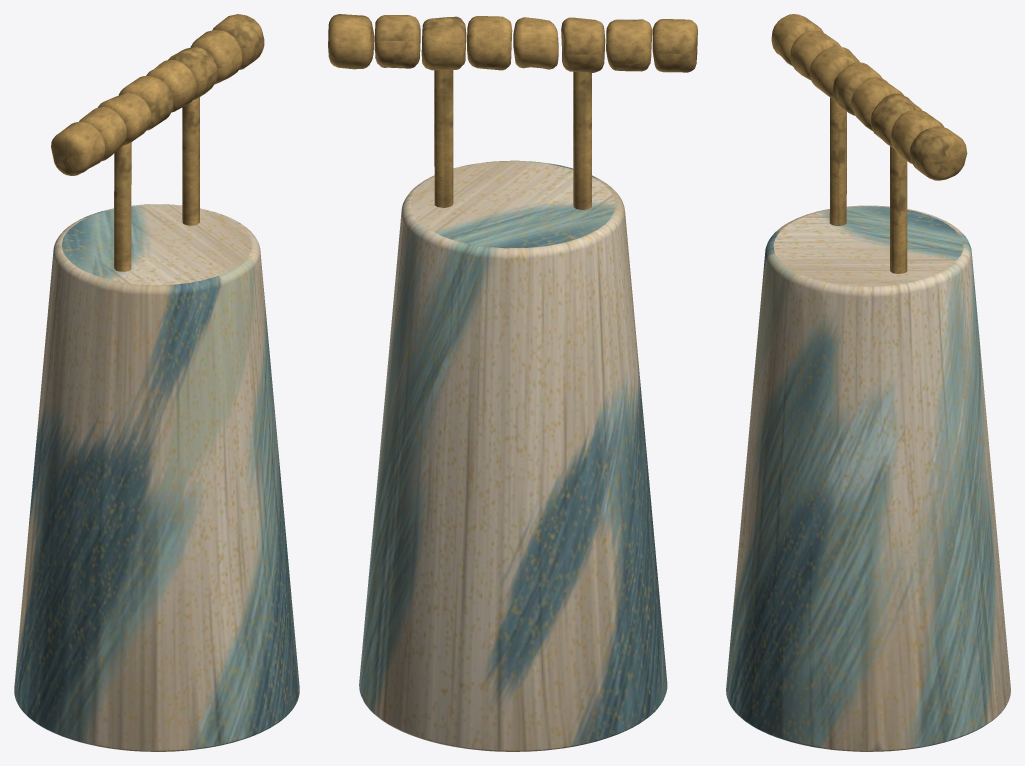
File: knight-white.glb
3 views of the same model, side by side, from view 1: azimuth 30°, elevation 25°; view 2: azimuth 150°, elevation 25°; view 3: azimuth 270°, elevation 25° (orthographic). The views are drawn at different scales.
Parts seen in each view (by area): view 1: Telo, Sloupek_1, Koralek_1, Sloupek_2, Koralek_7, Koralek_8, Koralek_4, Koralek_3, Koralek_5, Koralek_2, Koralek_6; view 2: Telo, Sloupek_2, Sloupek_1, Koralek_8, Koralek_7, Koralek_1, Koralek_5, Koralek_2, Koralek_6, Koralek_3, Koralek_4; view 3: Telo, Koralek_8, Sloupek_2, Sloupek_1, Koralek_3, Koralek_7, Koralek_5, Koralek_6, Koralek_2, Koralek_1, Koralek_4.
Boxes of the visible parts, x1,y1,x2,y2 form: Telo: (14,204,299,751); Sloupek_1: (114,142,131,271); Koralek_1: (51,121,105,175); Sloupek_2: (182,97,199,225); Koralek_7: (190,30,242,84); Koralek_8: (212,14,264,69); Koralek_4: (118,76,173,130); Koralek_3: (97,93,151,145); Koralek_5: (146,60,197,112); Koralek_2: (79,106,127,161); Koralek_6: (168,46,217,99); Telo: (359,160,667,751); Sloupek_2: (434,70,453,207); Sloupek_1: (573,71,591,209); Koralek_8: (328,14,374,69); Koralek_7: (374,15,420,68); Koralek_1: (652,19,697,72); Koralek_5: (467,16,512,70); Koralek_2: (606,19,652,71); Koralek_6: (421,16,466,70); Koralek_3: (561,17,605,72); Koralek_4: (513,17,558,69); Telo: (726,205,1010,751); Koralek_8: (909,126,967,180); Sloupek_2: (890,146,907,273); Sloupek_1: (829,97,846,225); Koralek_3: (810,46,860,98); Koralek_7: (890,110,943,163); Koralek_5: (851,77,903,130); Koralek_6: (870,93,921,147); Koralek_2: (790,30,841,80); Koralek_1: (771,14,823,66); Koralek_4: (832,62,882,115).
Size of the model in its own units: 0.7082 by 1.54 by 0.6431.
3 materials, 3 textured.
